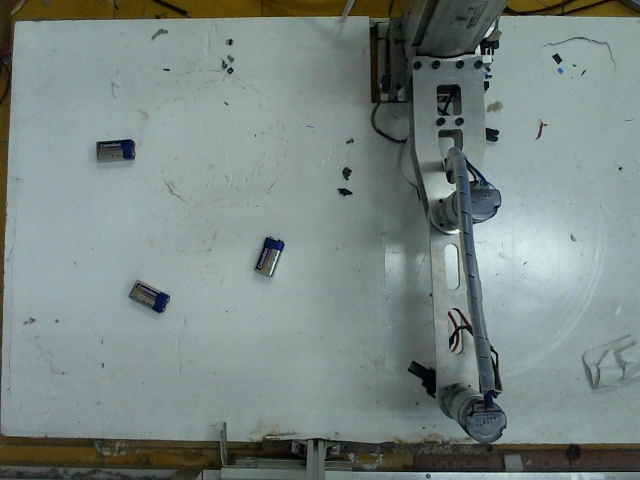battery: (124, 276, 168, 314), (253, 233, 287, 277), (89, 133, 137, 164)
